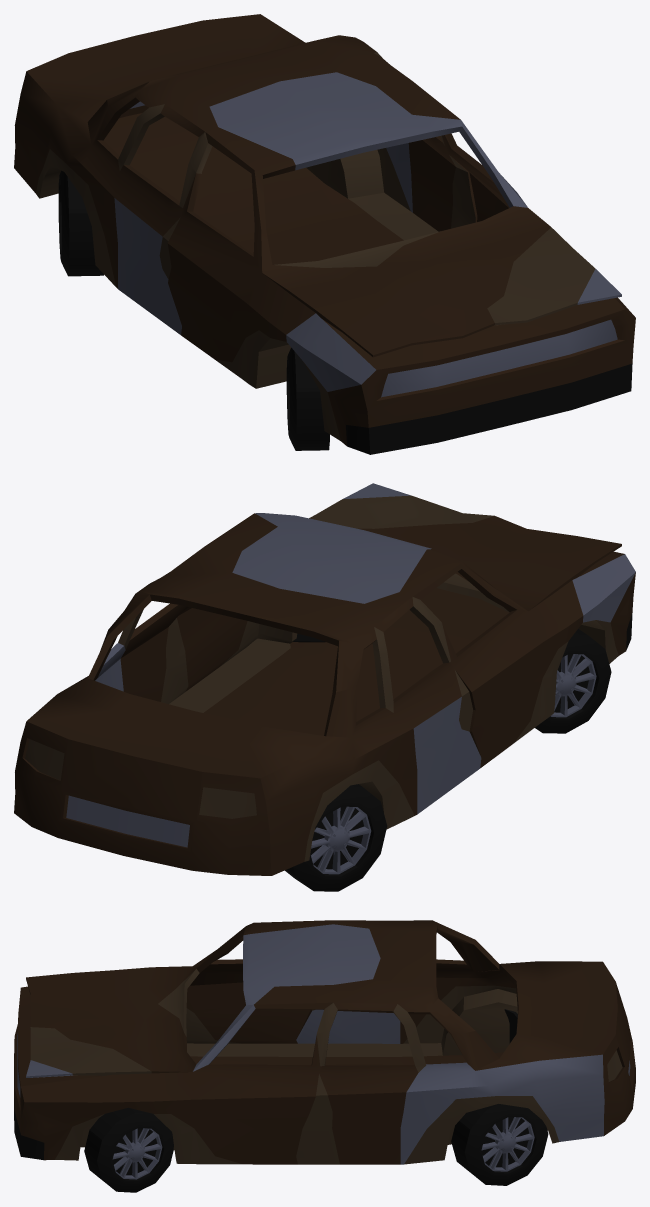
3 renders of one model, top to bottom at view 1: azimuth 30°, elevation 25°; view 2: azimuth 150°, elevation 25°; view 3: azimuth 270°, elevation 25°, orthographic. The views are drawn at different scales.
Parts seen in each view (by area): view 1: Debris_BrokenCar.003_Cube.096; view 2: Debris_BrokenCar.003_Cube.096; view 3: Debris_BrokenCar.003_Cube.096.
Boxes of the visible parts, left/top/right/bottom form: Debris_BrokenCar.003_Cube.096: left=14, top=14, right=635, bottom=454; Debris_BrokenCar.003_Cube.096: left=14, top=483, right=635, bottom=891; Debris_BrokenCar.003_Cube.096: left=14, top=920, right=635, bottom=1192.
Bounding box in the file's own units: 212 × 141 × 442.
